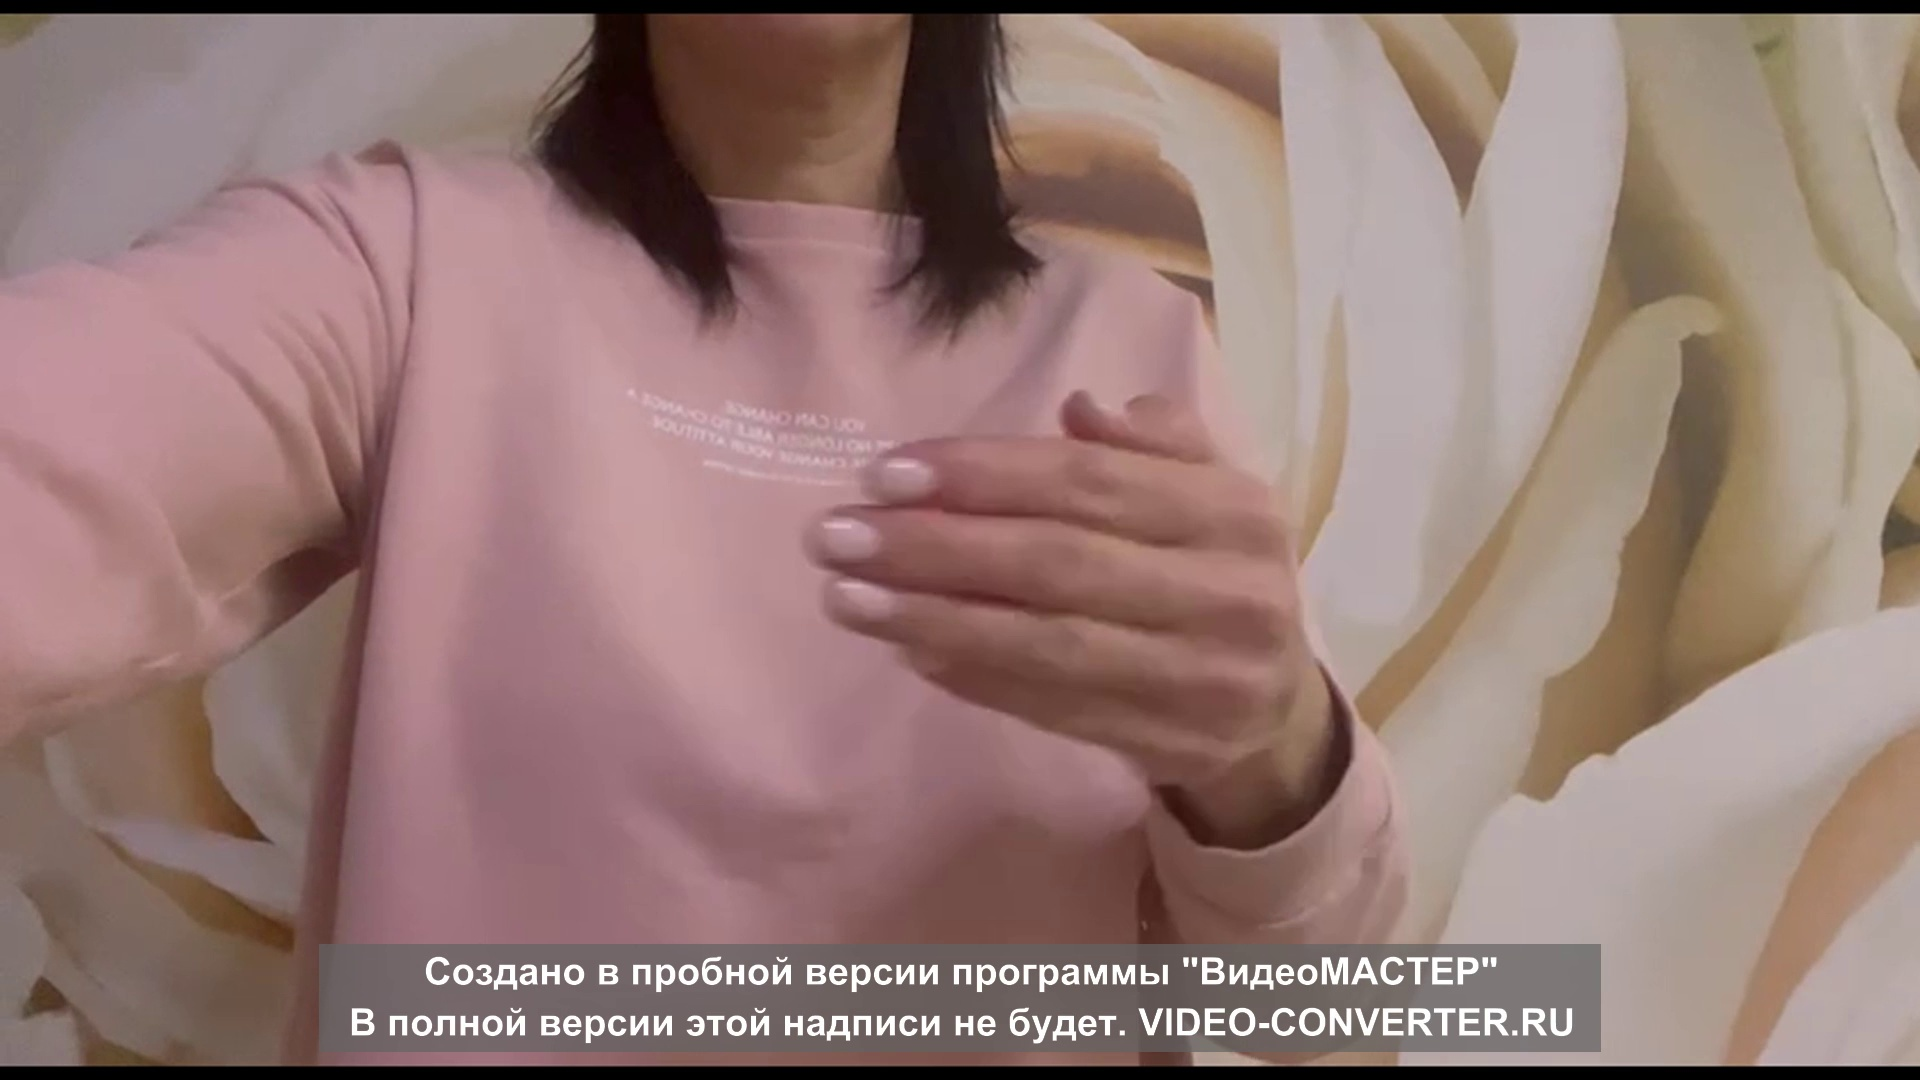Кисть: (804, 388, 1300, 770)
